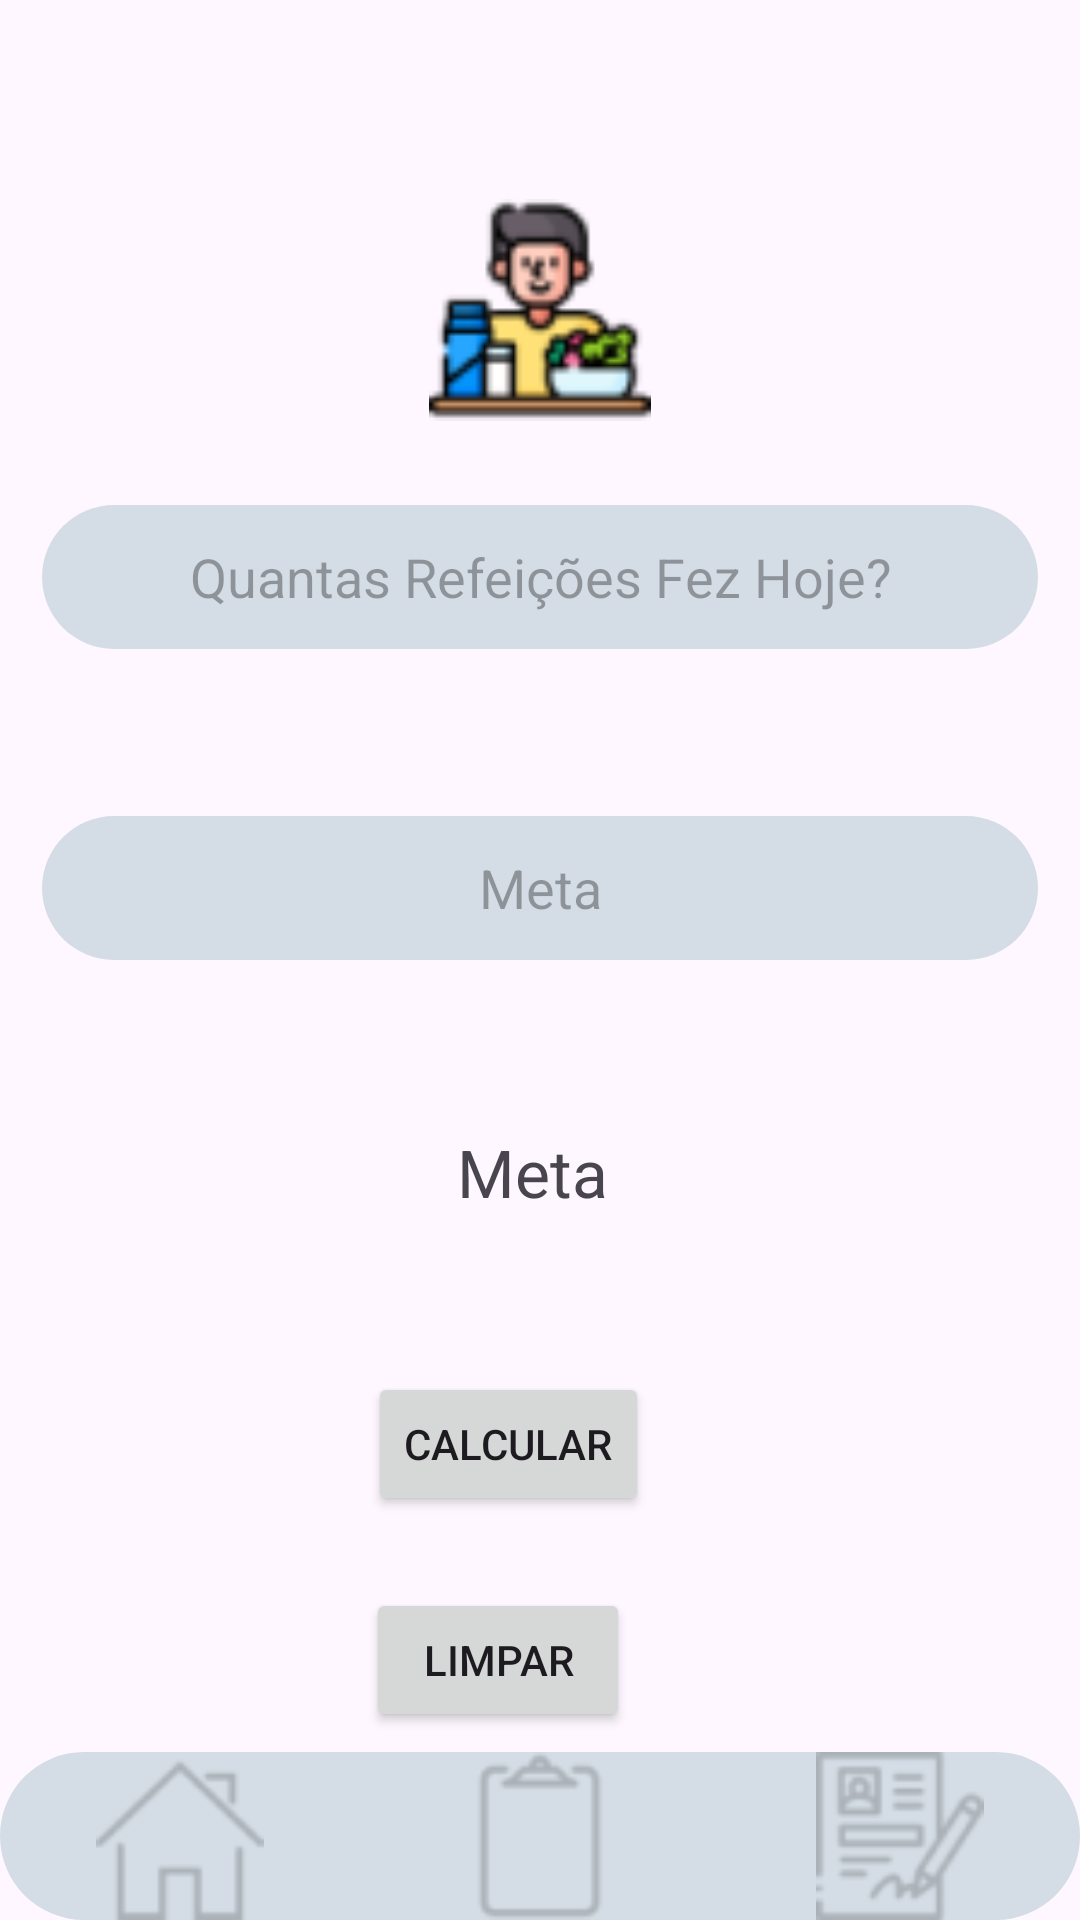

Locate icon controls on the screen. Image size 1080×1920, boxes as (x1, y1, x2, y2).
Atividades: (481, 1756, 599, 1916)
healthyfood: (429, 202, 651, 418)
Início: (0, 1752, 360, 1920)
Perfil: (720, 1752, 1080, 1920)
